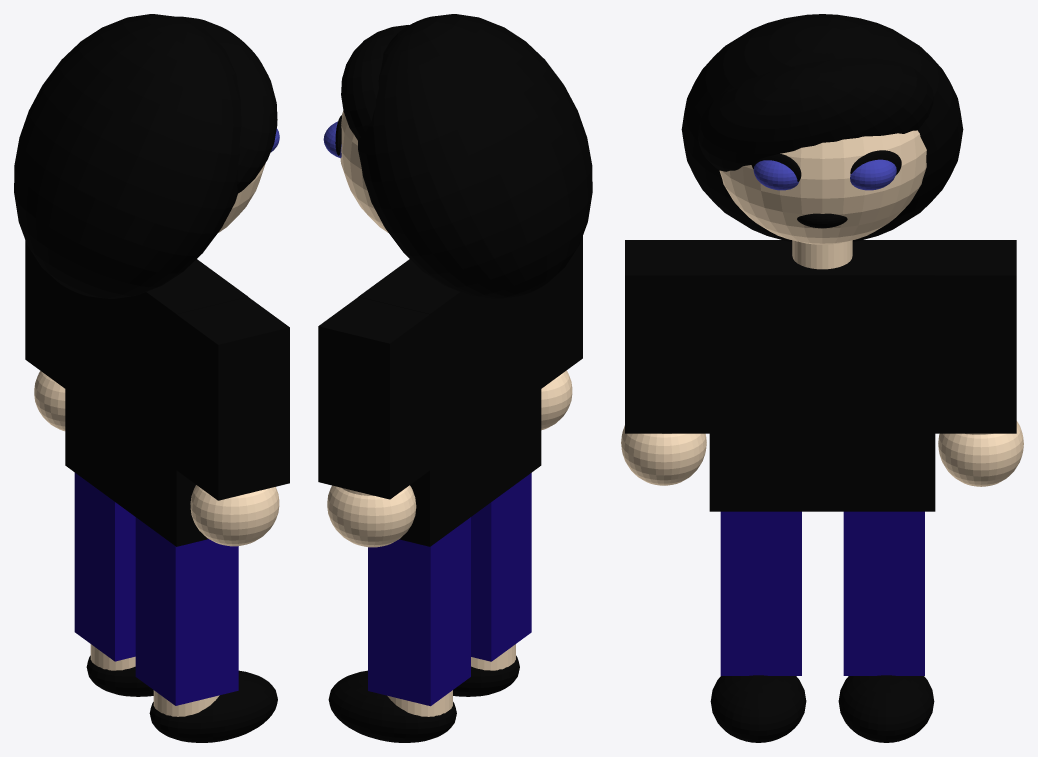
File: Raven.fbx
3 views of the same model, side by side, from view 1: azimuth 30°, elevation 25°; view 2: azimuth 150°, elevation 25°; view 3: azimuth 270°, elevation 25° (orthographic).
Parts seen in each view (by area): view 1: Sphere.004, Cube, Cube.002, Cube.004, Cube.003, Sphere.018, Sphere.005, Cube.001, Sphere.015, Sphere.019, Sphere.014, Sphere; view 2: Sphere.004, Cube, Cube.001, Cube.003, Cube.004, Sphere.019, Cube.002, Sphere.014, Sphere.005, Sphere.018, Sphere, Sphere.015; view 3: Cube, Sphere.005, Sphere.004, Cube.002, Cube.001, Cube.003, Cube.004, Sphere, Sphere.018, Sphere.019, Sphere.014, Sphere.015 (+3 smaller).
Boxes of the visible parts, box(x1,y1,x2,y2) form: Sphere.004: box(14, 14, 241, 298); Cube: box(65, 259, 247, 546); Cube.002: box(176, 297, 289, 500); Cube.004: box(135, 517, 238, 705); Cube.003: box(74, 472, 135, 661); Sphere.018: box(149, 670, 277, 742); Sphere.005: box(176, 16, 277, 193); Cube.001: box(25, 240, 66, 389); Sphere.015: box(190, 485, 279, 546); Sphere.019: box(86, 644, 153, 696); Sphere.014: box(34, 371, 65, 431); Sphere: box(218, 163, 265, 232); Sphere.004: box(358, 14, 592, 298); Cube: box(358, 259, 541, 546); Cube.001: box(318, 297, 431, 499); Cube.003: box(368, 517, 470, 706); Cube.004: box(471, 473, 531, 661); Sphere.019: box(328, 670, 456, 742); Cube.002: box(541, 236, 582, 388); Sphere.014: box(327, 485, 416, 547); Sphere.005: box(341, 25, 408, 140); Sphere.018: box(453, 644, 519, 696); Sphere: box(340, 111, 388, 232); Sphere.015: box(541, 370, 572, 430); Cube: box(709, 240, 935, 511); Sphere.005: box(698, 58, 933, 171); Sphere.004: box(681, 14, 963, 241); Cube.002: box(625, 240, 709, 433); Cube.001: box(932, 240, 1016, 433); Cube.003: box(843, 511, 924, 675); Cube.004: box(720, 511, 801, 675); Sphere: box(719, 130, 926, 244); Sphere.018: box(710, 675, 806, 742); Sphere.019: box(838, 675, 934, 742); Sphere.014: box(938, 421, 1023, 486); Sphere.015: box(621, 425, 706, 485).
Size of the model in its own units: 228 by 685 by 357.
